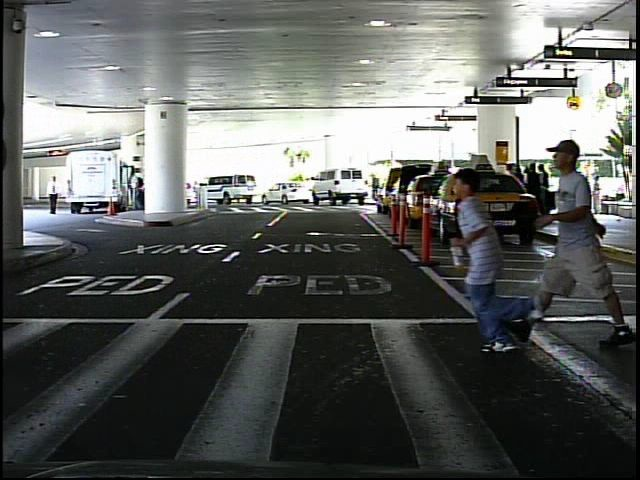person: (529, 121, 625, 356), (454, 154, 555, 356), (588, 172, 607, 218), (46, 173, 64, 217), (369, 171, 384, 204)
